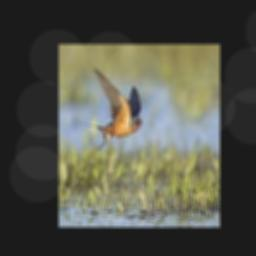Swallow: (79, 68, 143, 151)
